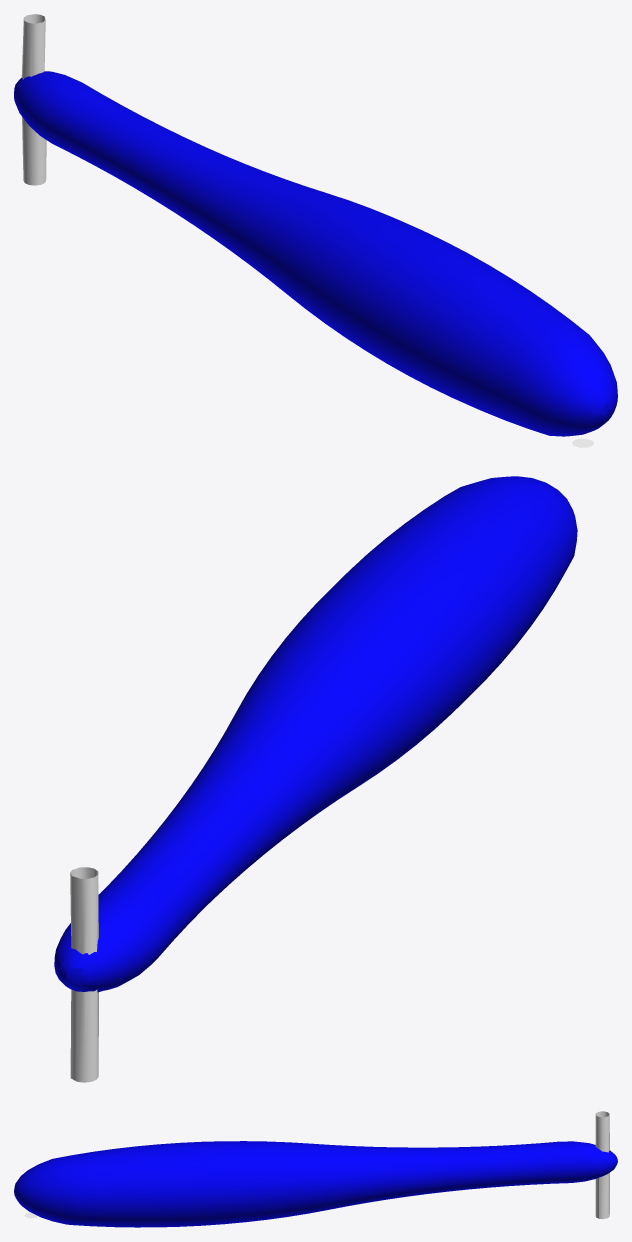
Rendered from leg_left_bot.obj.
3 renders of one model, top to bottom at view 1: azimuth 30°, elevation 25°; view 2: azimuth 150°, elevation 25°; view 3: azimuth 270°, elevation 25°, orthographic. The views are drawn at different scales.
Parts seen in each view (by area): view 1: Mesh1 Component_1_1 Component_2_1 Model, Mesh2 Component_2_1 Model; view 2: Mesh1 Component_1_1 Component_2_1 Model, Mesh2 Component_2_1 Model; view 3: Mesh1 Component_1_1 Component_2_1 Model, Mesh2 Component_2_1 Model.
Boxes of the visible parts, x1,y1,x2,y2 form: Mesh1 Component_1_1 Component_2_1 Model: (14,71,617,436); Mesh2 Component_2_1 Model: (21,14,46,185); Mesh1 Component_1_1 Component_2_1 Model: (54,476,577,992); Mesh2 Component_2_1 Model: (70,867,98,1082); Mesh1 Component_1_1 Component_2_1 Model: (14,1141,617,1227); Mesh2 Component_2_1 Model: (595,1111,609,1219).
Bounding box in the file's own units: 0.0556 × 0.0491 × 0.2641.
